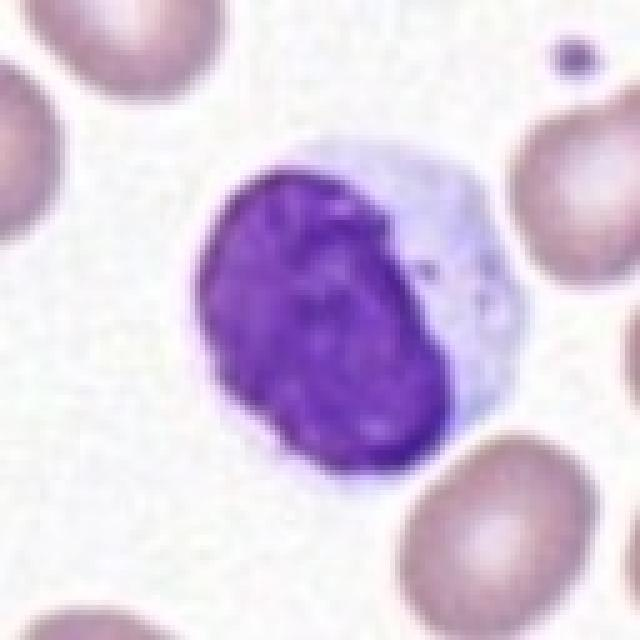lympho: (193, 133, 532, 471)
